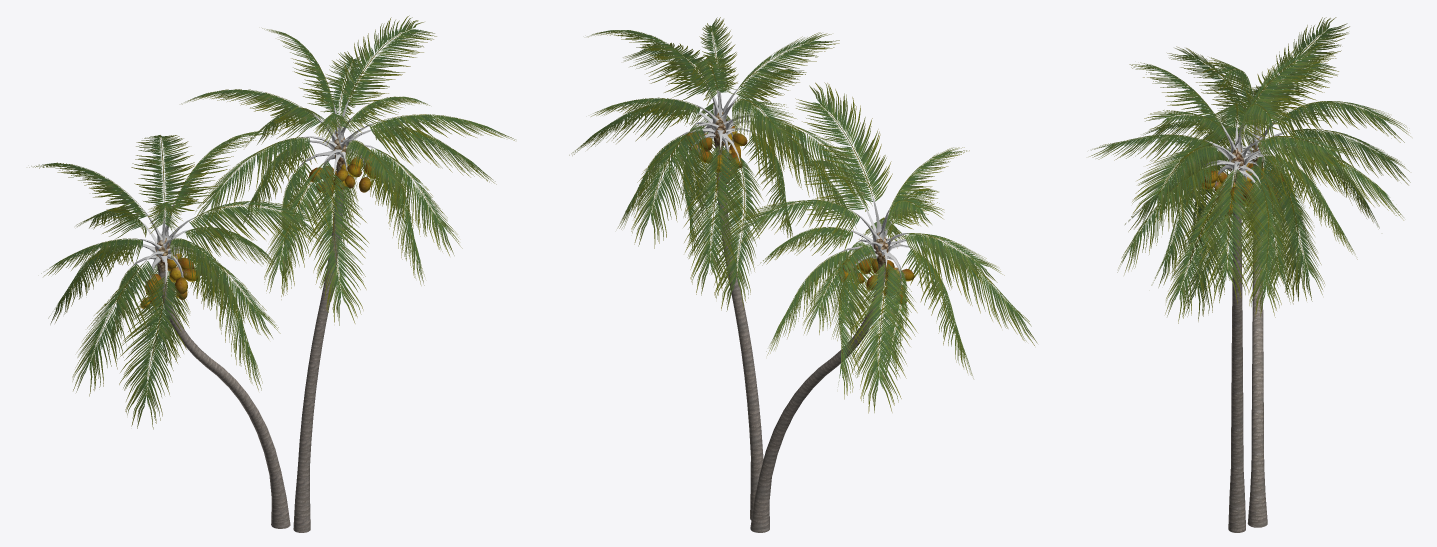
3 views of the same model, side by side, from view 1: azimuth 30°, elevation 25°; view 2: azimuth 150°, elevation 25°; view 3: azimuth 270°, elevation 25° (orthographic). The views are drawn at different scales.
Visible parts, largest first — view 1: Tree_2, Tree_0, Tree_3, Tree_4; view 2: Tree_2, Tree_0, Tree_3, Tree_4, Tree_1; view 3: Tree_2, Tree_0, Tree_3, Tree_4.
Part boxes in pixels (bbox=[...]): Tree_2: bbox=[29, 15, 515, 429]; Tree_0: bbox=[158, 170, 343, 532]; Tree_3: bbox=[132, 98, 378, 295]; Tree_4: bbox=[140, 154, 375, 308]; Tree_2: bbox=[569, 17, 1037, 413]; Tree_0: bbox=[716, 152, 885, 532]; Tree_3: bbox=[679, 82, 917, 291]; Tree_4: bbox=[685, 126, 914, 304]; Tree_1: bbox=[712, 112, 888, 269]; Tree_2: bbox=[1089, 17, 1410, 323]; Tree_0: bbox=[1228, 201, 1267, 532]; Tree_3: bbox=[1204, 112, 1296, 202]; Tree_4: bbox=[1202, 162, 1283, 217].
Bounding box in the file's own units: 6.3 × 6.28 × 4.02.
